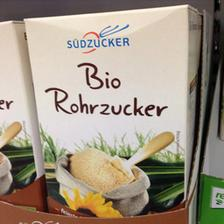Zucker: (20, 3, 196, 217), (0, 18, 44, 210)
